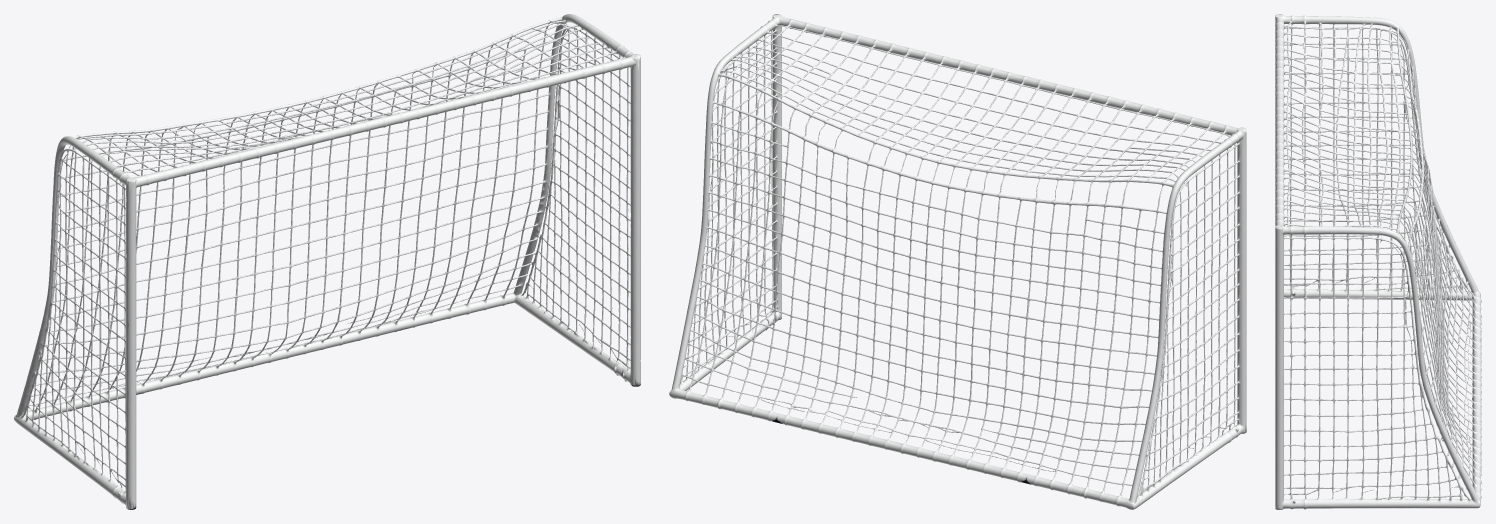
File: goal.glb
3 views of the same model, side by side, from view 1: azimuth 30°, elevation 25°; view 2: azimuth 150°, elevation 25°; view 3: azimuth 270°, elevation 25° (orthographic). The views are drawn at different scales.
Bounding box in the file's own units: 1.9 × 1.17 × 0.7722.
Materials: 1 (1 with a texture image).
